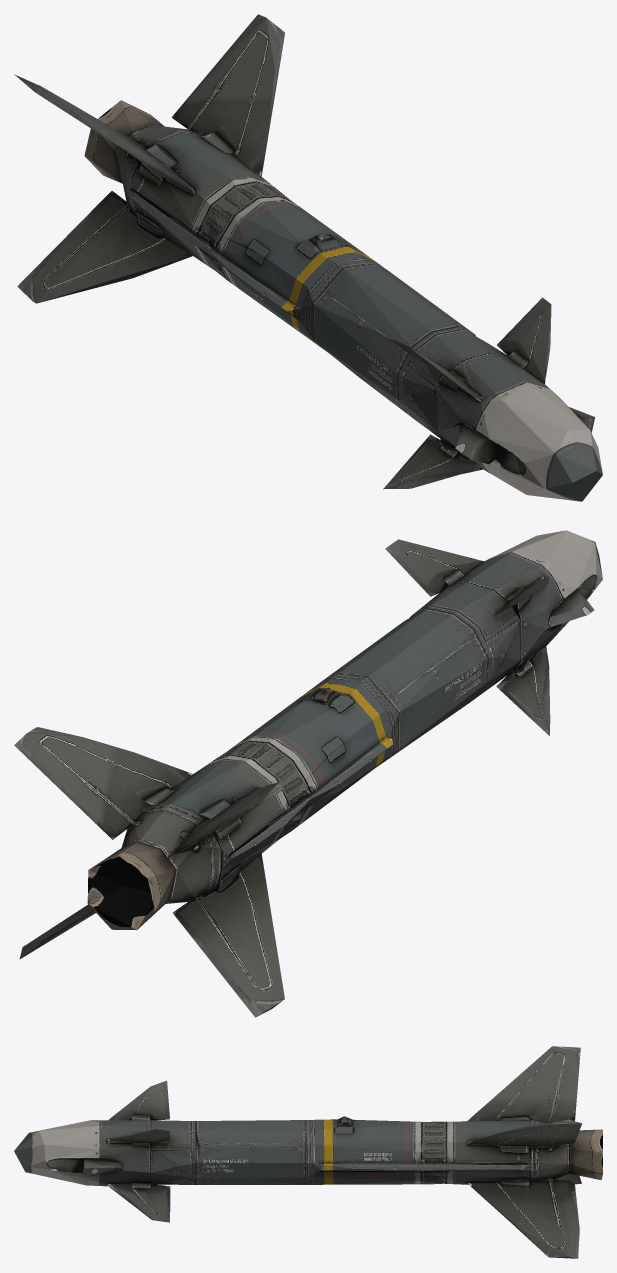
File: Missile.obj
3 views of the same model, one above another, from view 1: azimuth 30°, elevation 25°; view 2: azimuth 150°, elevation 25°; view 3: azimuth 270°, elevation 25° (orthographic). The views are drawn at different scales.
Parts seen in each view (by area): view 1: tripo_node_c63cc404-fae6-4e54-a8b8-200e98682137; view 2: tripo_node_c63cc404-fae6-4e54-a8b8-200e98682137; view 3: tripo_node_c63cc404-fae6-4e54-a8b8-200e98682137.
Part boxes in pixels (left/top/right/bottom): tripo_node_c63cc404-fae6-4e54-a8b8-200e98682137: left=14, top=14, right=602, bottom=501; tripo_node_c63cc404-fae6-4e54-a8b8-200e98682137: left=14, top=530, right=602, bottom=1017; tripo_node_c63cc404-fae6-4e54-a8b8-200e98682137: left=14, top=1046, right=602, bottom=1258.
Size of the model in its own units: 0.3077 by 0.2619 by 1.
1 material, 1 textured.
